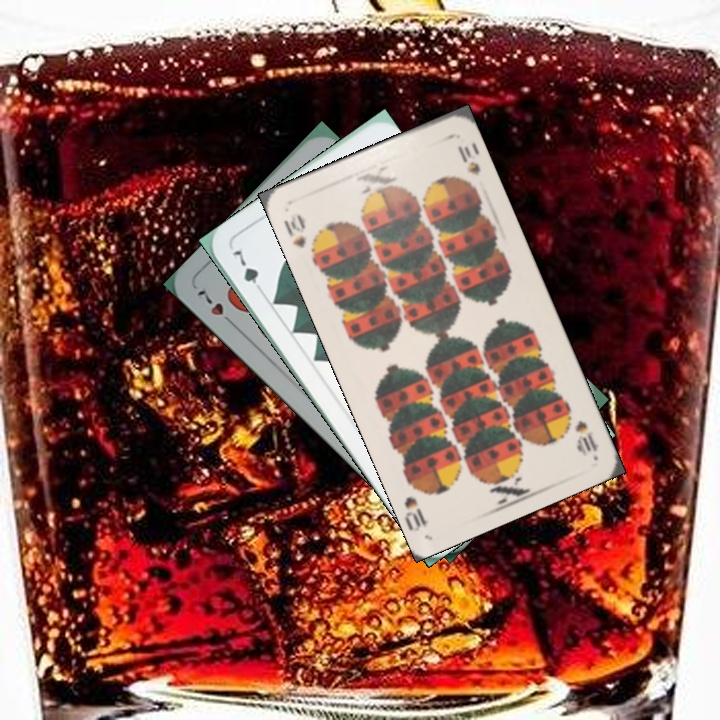G7: (228, 245, 268, 298)
H7: (192, 286, 239, 330)
S10: (280, 210, 320, 262), (571, 416, 602, 458)
